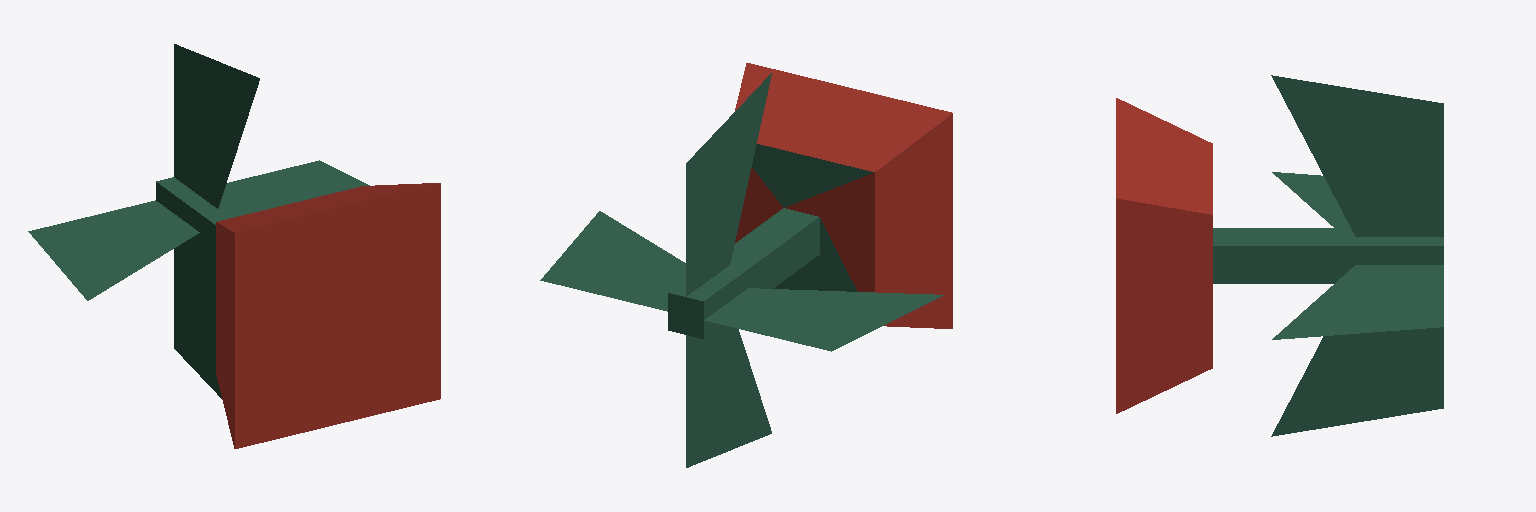
Rendered from flower1.obj.
The picture shows the model from 3 angles: view 1: azimuth 30°, elevation 25°; view 2: azimuth 150°, elevation 25°; view 3: azimuth 270°, elevation 25°; orthographic projection.
Parts seen in each view (by area): view 1: Mesh3_Flower_Red_Model, Mesh4_Flower_Red_Model, Mesh2_Flower_Red_Model, Mesh1_Flower_Red_Model, Mesh5_Flower_Red_Model; view 2: Mesh3_Flower_Red_Model, Mesh4_Flower_Red_Model, Mesh2_Flower_Red_Model, Mesh1_Flower_Red_Model, Mesh5_Flower_Red_Model; view 3: Mesh3_Flower_Red_Model, Mesh4_Flower_Red_Model, Mesh1_Flower_Red_Model, Mesh5_Flower_Red_Model, Mesh2_Flower_Red_Model.
Part boxes in pixels (x1,y1,x2,y2): Mesh3_Flower_Red_Model: (156, 177, 440, 448); Mesh4_Flower_Red_Model: (174, 44, 259, 208); Mesh2_Flower_Red_Model: (28, 200, 199, 300); Mesh1_Flower_Red_Model: (174, 242, 221, 398); Mesh5_Flower_Red_Model: (223, 160, 369, 213); Mesh3_Flower_Red_Model: (668, 63, 952, 338); Mesh4_Flower_Red_Model: (686, 73, 771, 296); Mesh2_Flower_Red_Model: (704, 288, 943, 351); Mesh1_Flower_Red_Model: (686, 325, 771, 467); Mesh5_Flower_Red_Model: (540, 211, 685, 311); Mesh3_Flower_Red_Model: (1116, 98, 1443, 413); Mesh4_Flower_Red_Model: (1271, 75, 1443, 236); Mesh1_Flower_Red_Model: (1271, 327, 1443, 436); Mesh5_Flower_Red_Model: (1272, 265, 1443, 339); Mesh2_Flower_Red_Model: (1272, 172, 1350, 227).
Bounding box in the file's own units: 2.43 × 2.43 × 2.